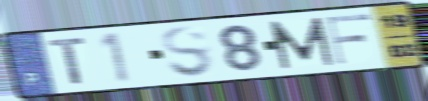1: (99, 31, 133, 85)
8: (217, 22, 265, 74)
F: (324, 12, 374, 67)
M: (266, 15, 337, 71)
S: (159, 25, 217, 80)
T: (46, 35, 90, 86)
